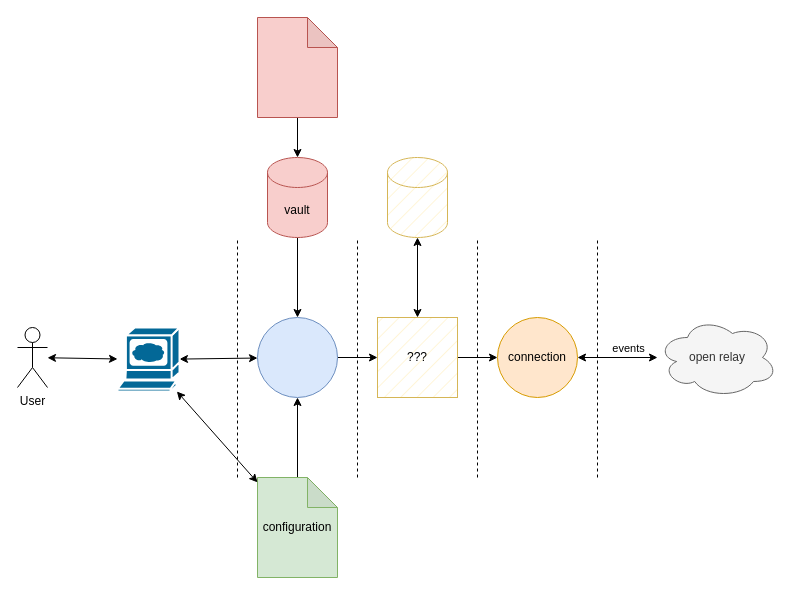
The diagram is 795 pixels wide and 595 high, and some of its shapes have lost their labels. The shapes that lost their labels are listed below. From the top down, each one's centre as x and y in pixels, then its label:
the point at 297,67: user key pair
the point at 417,197: state
the point at 297,357: client interface
